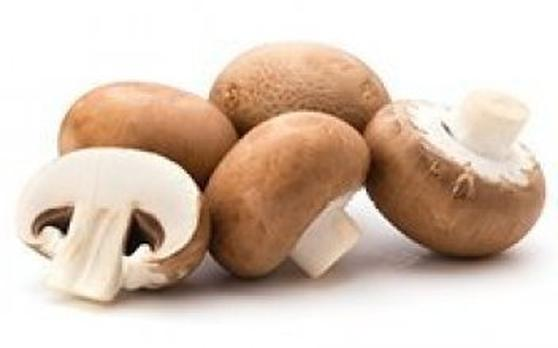champignon: (368, 87, 545, 255), (22, 146, 203, 305)
